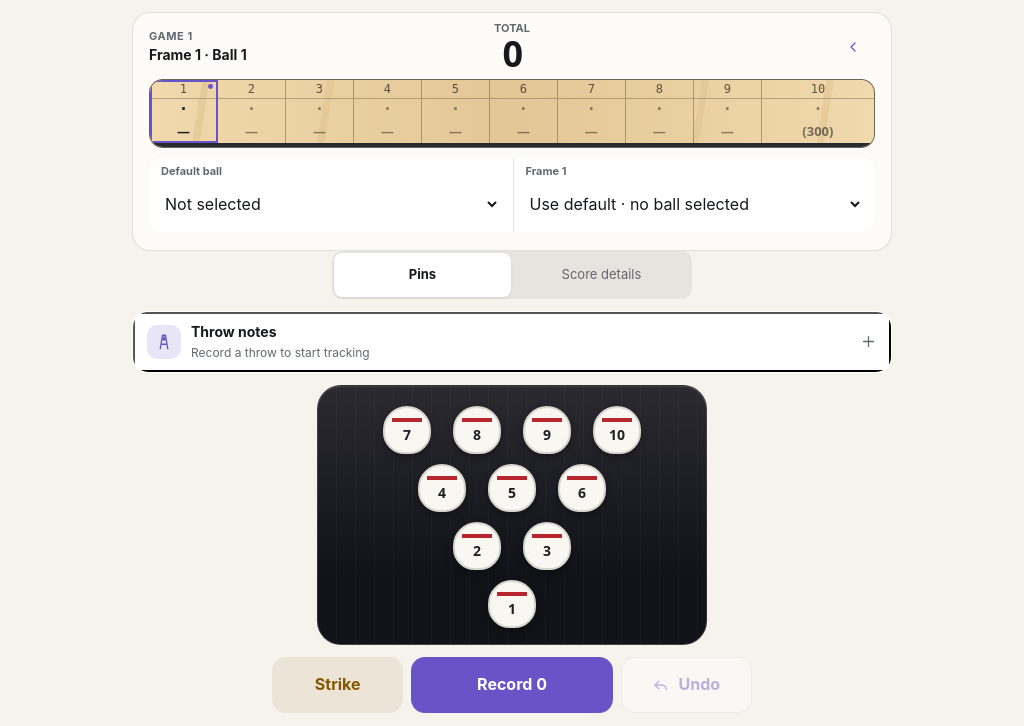
Test: BowlingScorer completion behavior › warns when the device rejects an autosave write
Click the button "Strike".
click(338, 685)  # box [272,657,404,713]
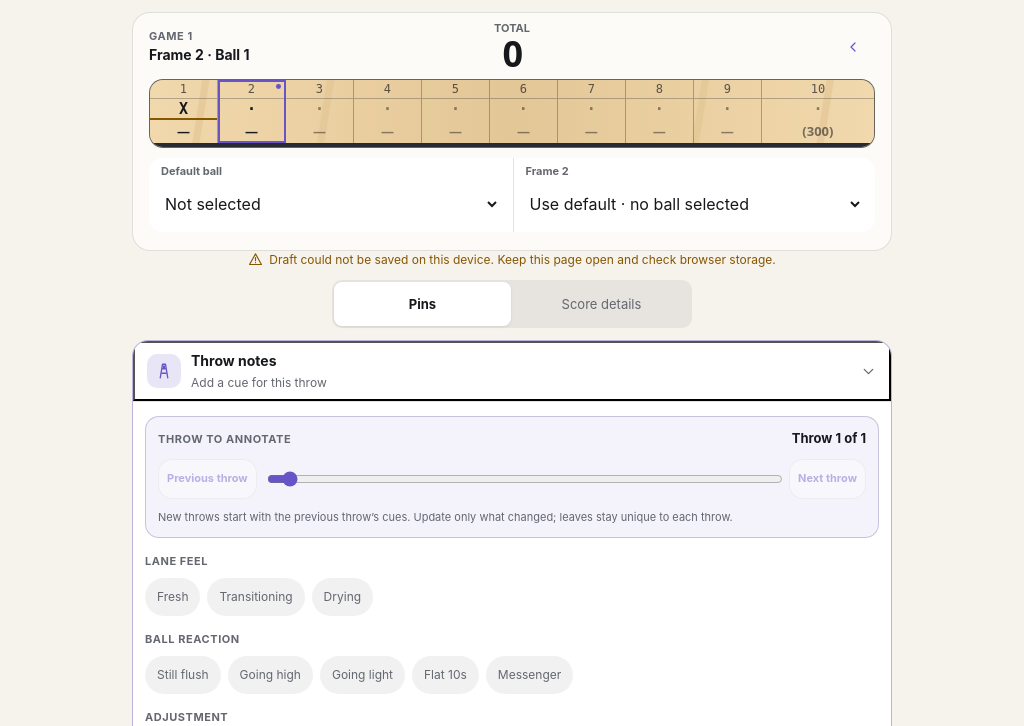
Check: the text "Draft could not be saved on this device. Keep this page open and check browser storage." is shown, box [269,252,776,267]
